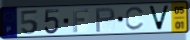5: (20, 9, 39, 35), (43, 8, 61, 34)
C: (124, 6, 146, 32)
F: (72, 8, 90, 33)
P: (94, 7, 117, 34)
V: (147, 4, 172, 32)
